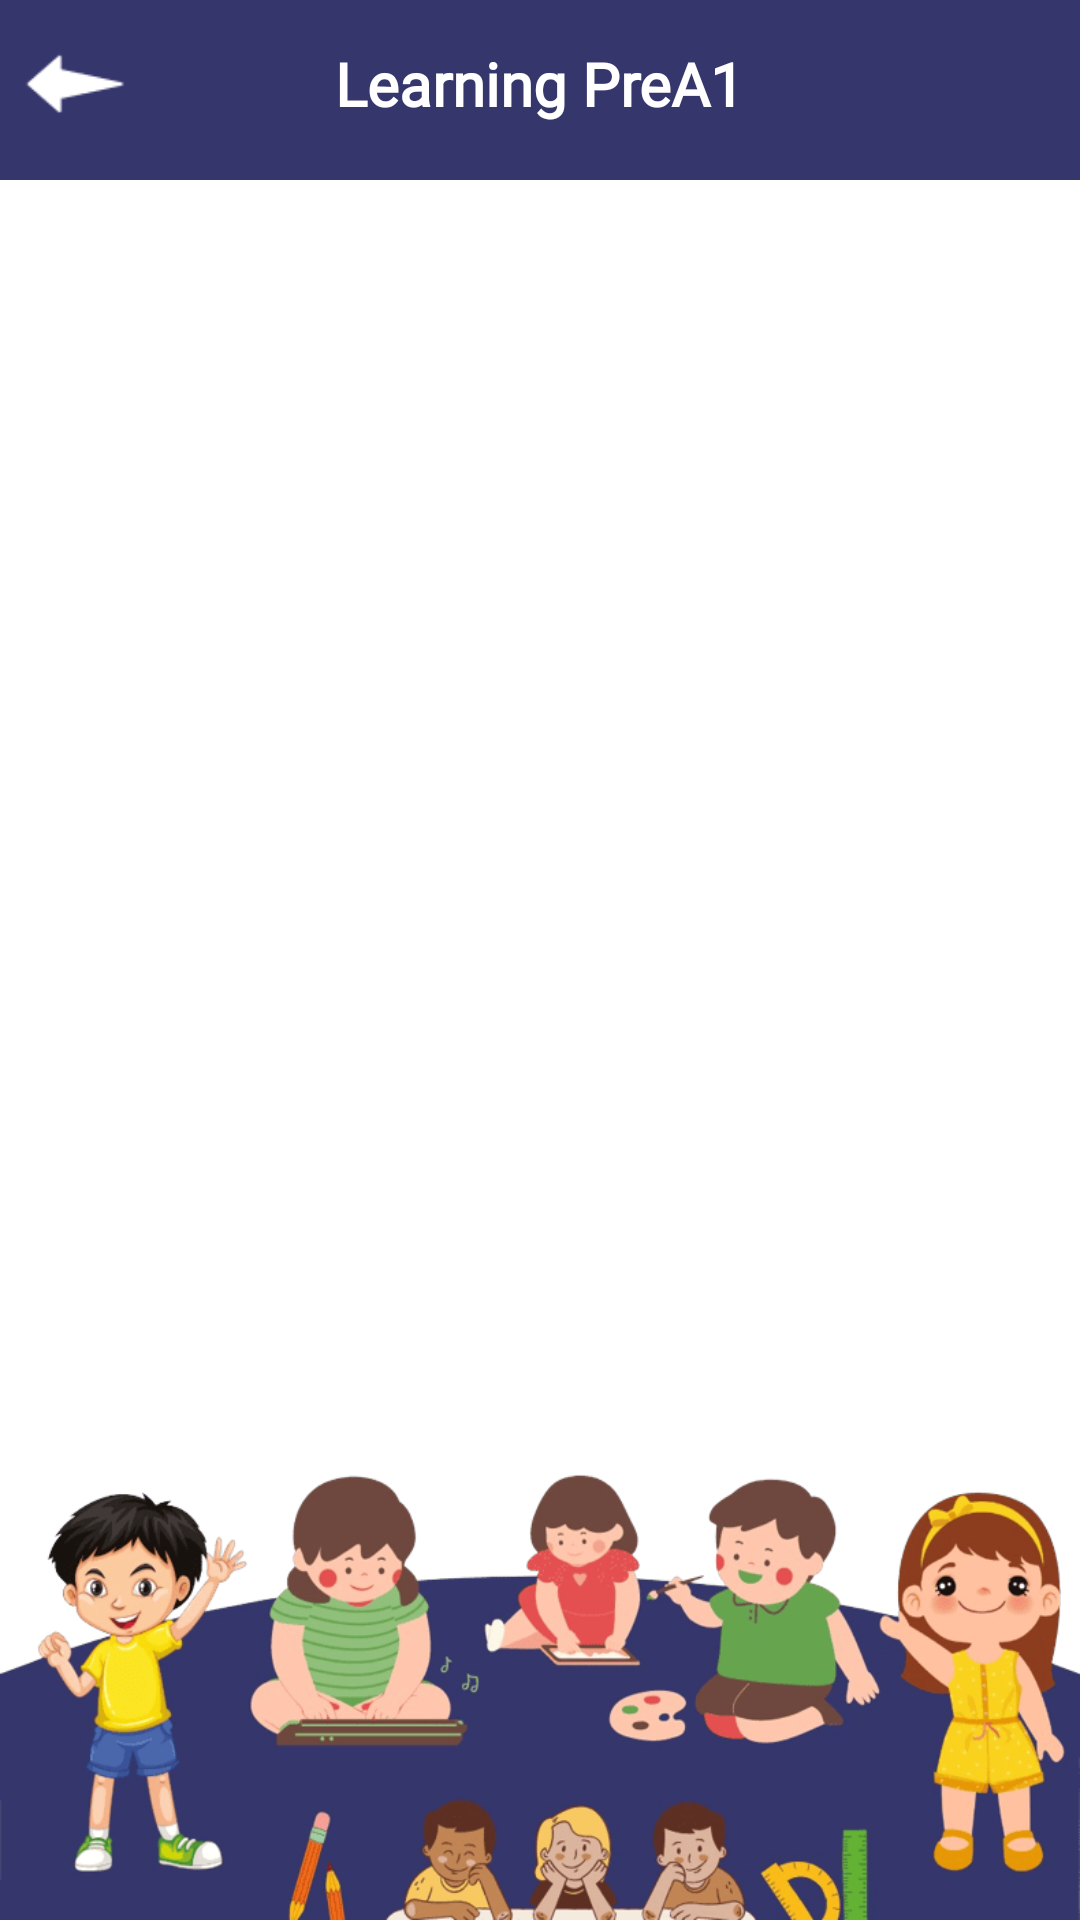

Icons on this 1080x1920 Android screen, each with the point to tap as (x=x, y=y):
left back: (x=75, y=84)
